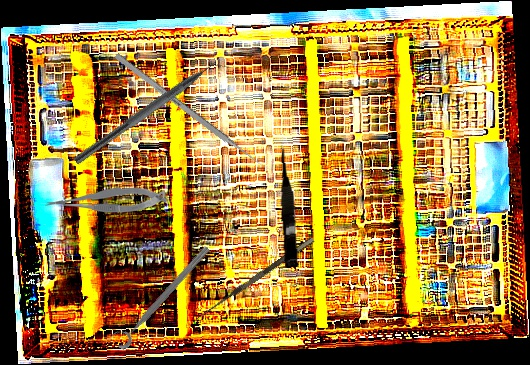Chopper: (73, 51, 232, 176)
Fixation Ring: (107, 238, 214, 352)
Hook Surgical: (194, 236, 319, 328)
Micro Scissor: (44, 183, 168, 216), (276, 144, 301, 268)
Pusher: (113, 52, 270, 173)
